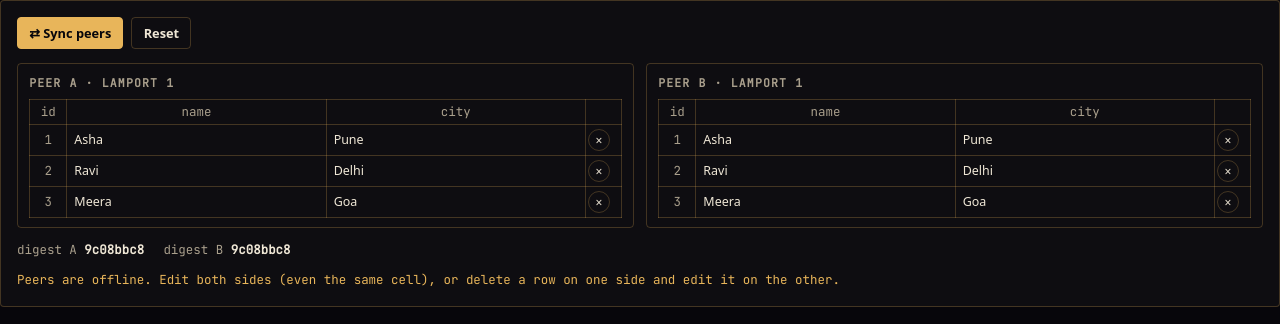
Test: CRDT merge › delete wins over a concurrent edit
The image size is (1280, 324).
Click the button named "Delete row 2 on peer A": point(599, 171) [588,160,610,182]
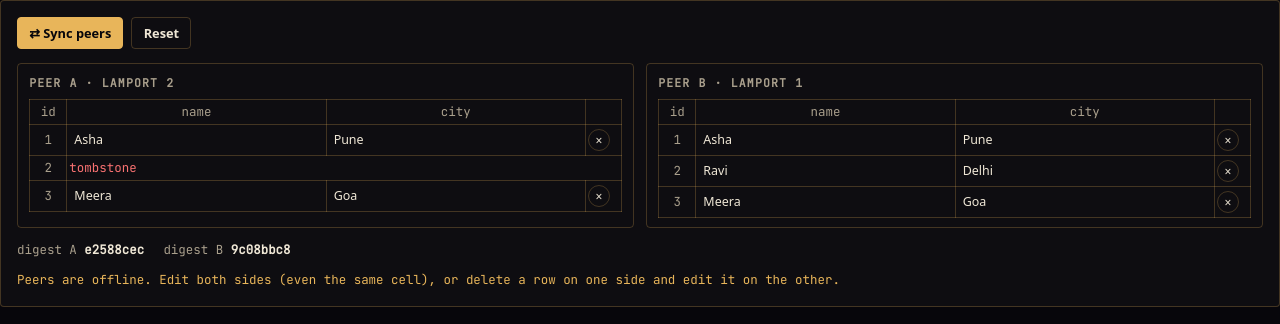
Replace the text in the field named "Peer B row 2 city" with "Mumbai": point(1085, 171) [958,158,1212,184]
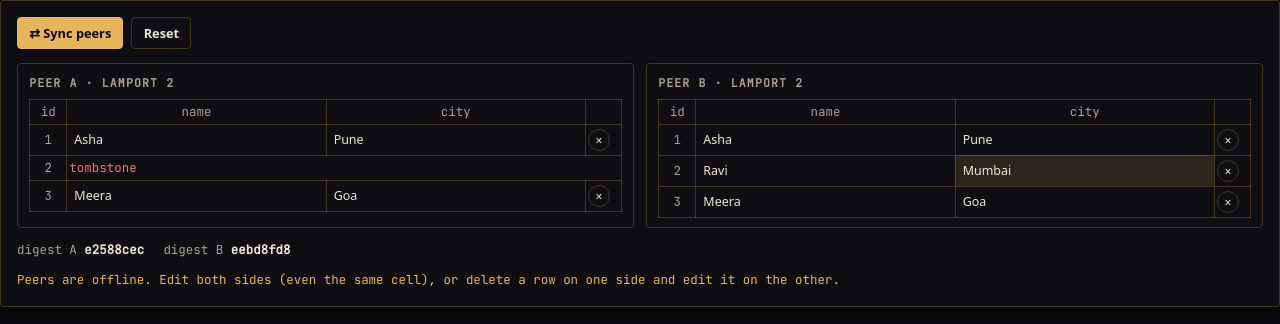
Click the button "⇄ Sync peers": point(70, 33) [17,17,124,49]
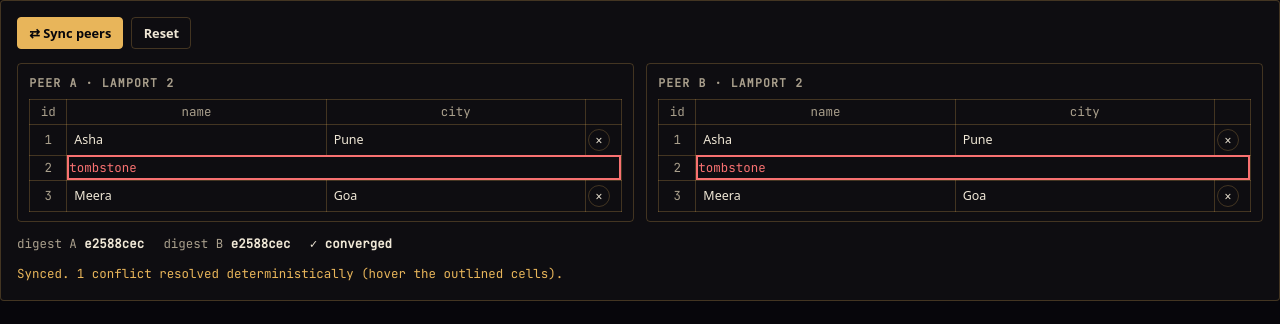
Expected: the text "tombstone" is shown 2 times, [69,159,137,176]; [698,159,766,176]
